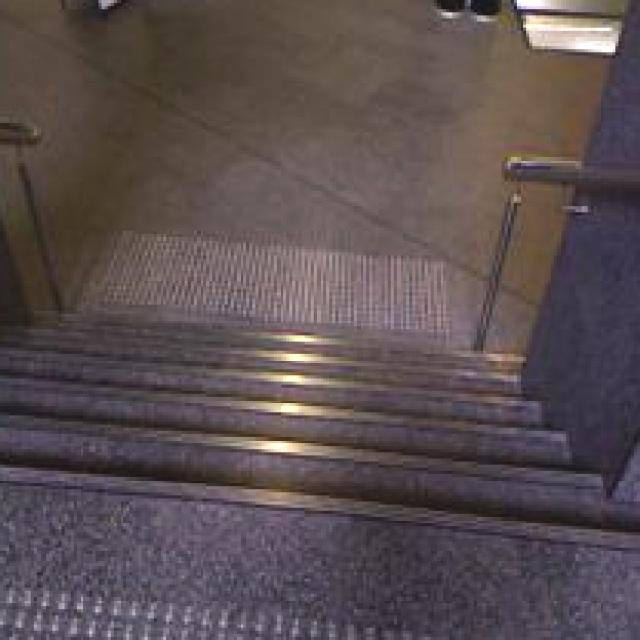downstair: (1, 361, 530, 635)
